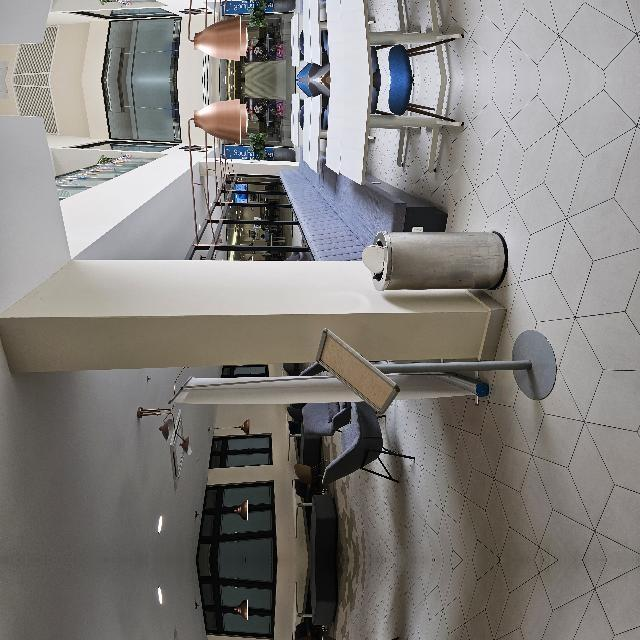obstacle: (150, 391, 233, 640), (376, 392, 480, 546), (150, 479, 233, 640), (256, 432, 334, 592), (256, 527, 334, 640), (66, 396, 146, 504), (375, 574, 480, 640), (66, 616, 145, 640)
